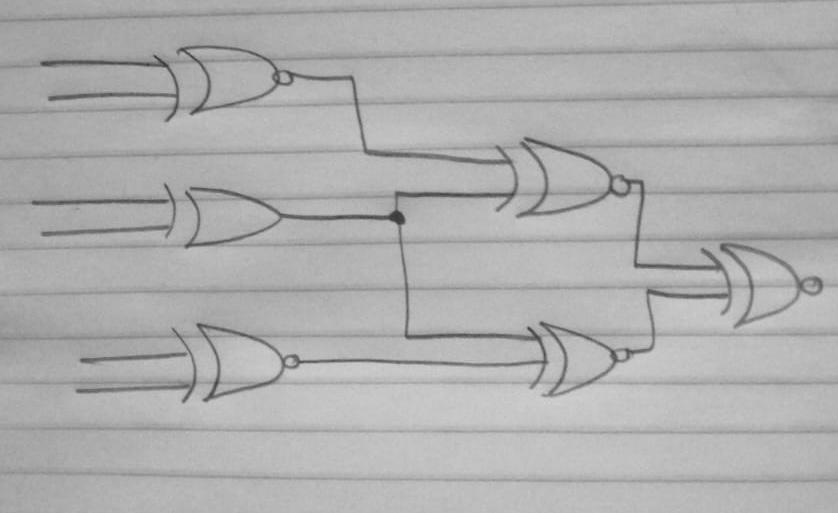XNOR: (163, 303, 315, 419), (145, 36, 311, 126), (489, 121, 628, 222), (697, 234, 834, 334), (515, 311, 636, 405)
XOR: (155, 165, 290, 263)
